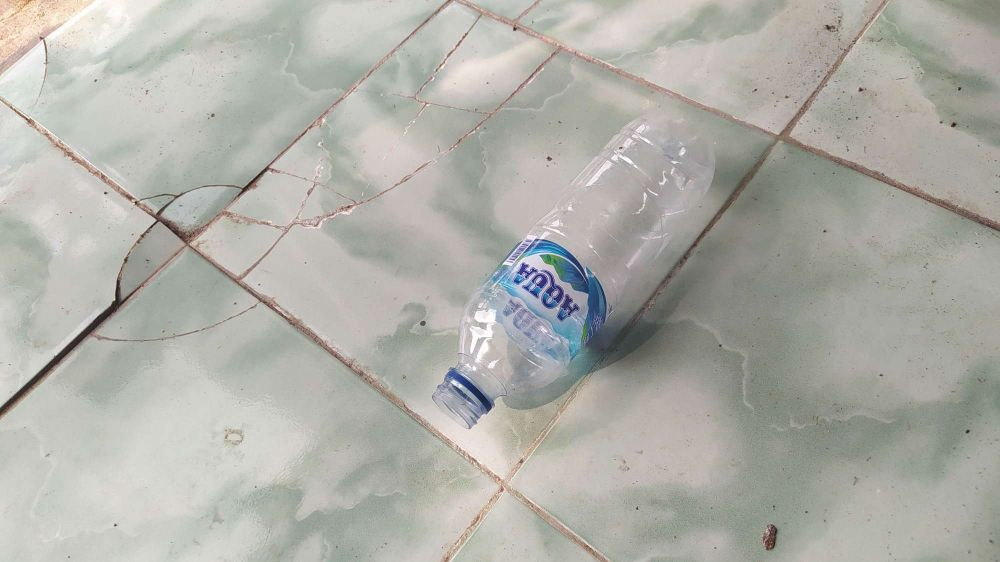botol: (389, 62, 728, 464)
